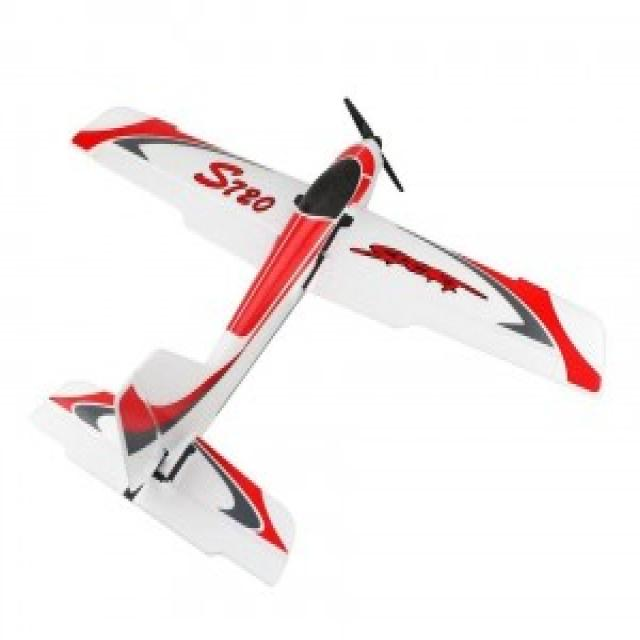iha: (25, 65, 606, 583)
